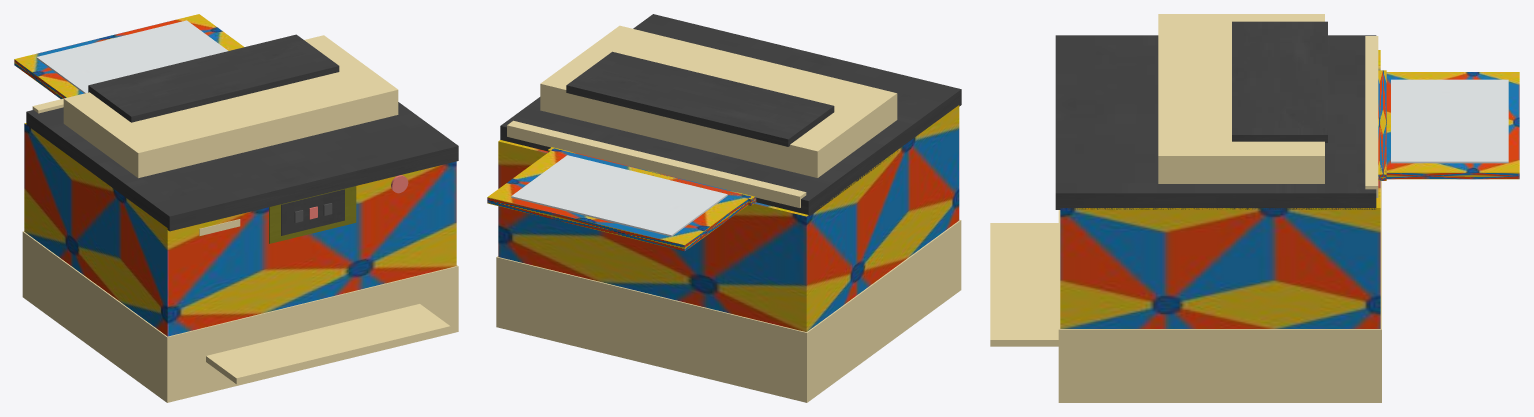
Rendered from Technology_Printer__0047.glb.
The picture shows the model from 3 angles, left to right: view 1: azimuth 30°, elevation 25°; view 2: azimuth 150°, elevation 25°; view 3: azimuth 270°, elevation 25°; orthographic projection. The views are drawn at different scales.
Parts seen in each view (by area): view 1: body::body_shell, body::base_band, scanner_lid::lid_slab, scanner_lid::adf_upper_cover, scanner_lid::adf_top_tray, body::output_shelf, rear_tray::rear_tray_paper, rear_tray::rear_tray_base, body::touchscreen_glass, body::control_panel; view 2: body::body_shell, body::base_band, scanner_lid::adf_upper_cover, scanner_lid::lid_slab, scanner_lid::adf_top_tray, rear_tray::rear_tray_paper, rear_tray::rear_tray_base, scanner_lid::adf_rear_hinge_strip, rear_tray::rear_hinge_lip; view 3: body::body_shell, scanner_lid::lid_slab, body::base_band, scanner_lid::adf_upper_cover, scanner_lid::adf_top_tray, rear_tray::rear_tray_paper, body::output_shelf, rear_tray::rear_tray_base, scanner_lid::adf_rear_hinge_strip, rear_tray::rear_hinge_lip.
Part boxes in pixels (x1,y1,x2,y2): body::body_shell: (24,123,456,336); body::base_band: (22,231,458,402); scanner_lid::lid_slab: (26,102,458,231); scanner_lid::adf_upper_cover: (63,35,398,178); scanner_lid::adf_top_tray: (88,34,339,122); body::output_shelf: (206,304,450,384); rear_tray::rear_tray_paper: (36,20,227,93); rear_tray::rear_tray_base: (14,14,244,98); body::touchscreen_glass: (281,189,344,235); body::control_panel: (269,186,356,243); body::body_shell: (498,105,959,331); body::base_band: (496,219,961,402); scanner_lid::adf_upper_cover: (540,25,897,177); scanner_lid::lid_slab: (500,14,961,216); scanner_lid::adf_top_tray: (566,51,834,146); rear_tray::rear_tray_paper: (511,155,727,236); rear_tray::rear_tray_base: (487,148,750,251); scanner_lid::adf_rear_hinge_strip: (507,120,806,207); rear_tray::rear_hinge_lip: (548,147,756,205); body::body_shell: (1060,50,1380,328); scanner_lid::lid_slab: (1055,35,1376,209); body::base_band: (1058,181,1381,402); scanner_lid::adf_upper_cover: (1158,14,1324,183); scanner_lid::adf_top_tray: (1232,21,1327,142); rear_tray::rear_tray_paper: (1391,79,1508,163); body::output_shelf: (990,223,1058,346); rear_tray::rear_tray_base: (1380,72,1519,179); scanner_lid::adf_rear_hinge_strip: (1365,36,1378,197); rear_tray::rear_hinge_lip: (1378,70,1386,180).
Bounding box in the file's own units: 0.5114 × 0.3678 × 0.7196.
9 materials, 7 textured.
